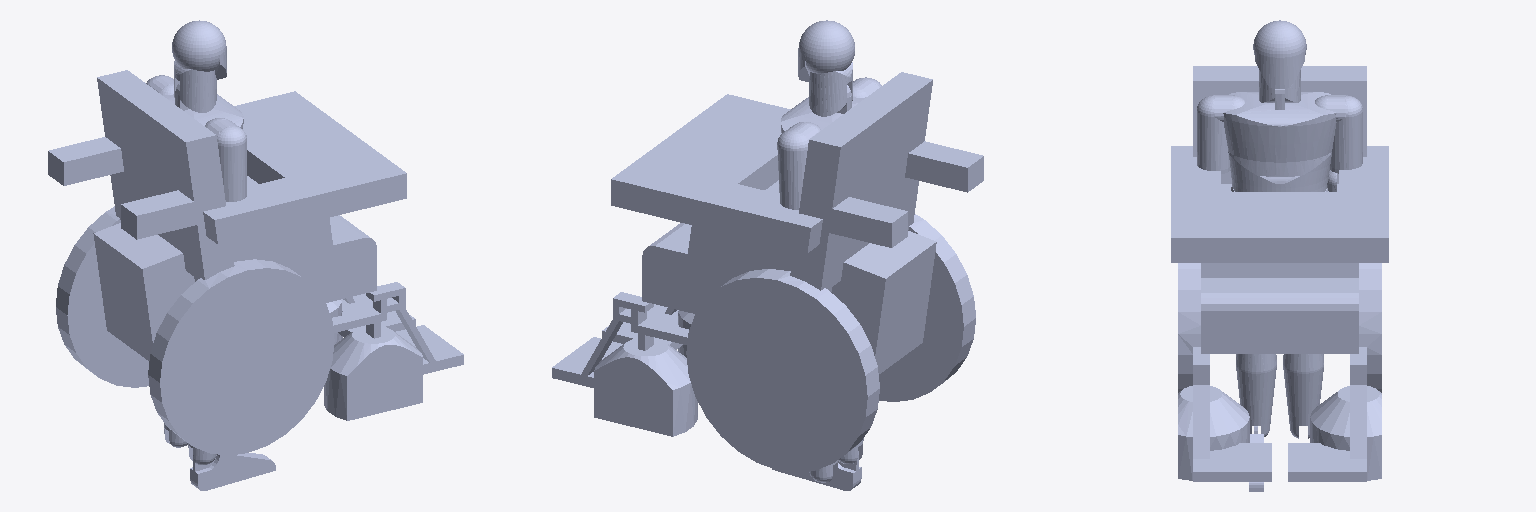
URDF robot description (wheelchair_simulation_expanded):
<?xml version="1.0"?>
<robot
  name="wheelchair_simulation_expanded">
  <link
    name="wheelchair/base_link">
    <inertial>
      <origin
        xyz="0.53211 -9.4007E-05 0.52163"
        rpy="0 0 0" />
      <mass
        value="272.65" />
      <inertia
        ixx="34.793"
        ixy="-0.011261"
        ixz="-5.7617"
        iyy="44.037"
        iyz="-0.013729"
        izz="36.587" />
    </inertial>
    <visual>
      <origin
        xyz="0 0 0"
        rpy="0 0 0" />
      <geometry>
        <mesh
          filename="package://hrl_base_selection/urdf/wheelchair_simulation/meshes/expanded/base_link.STL" />
      </geometry>
      <material
        name="">
        <color
          rgba="0.79216 0.81961 0.93333 1" />
      </material>
    </visual>
    <collision>
      <origin
        xyz="0 0 0"
        rpy="0 0 0" />
      <geometry>
        <mesh
          filename="package://hrl_base_selection/urdf/wheelchair_simulation/meshes/expanded/base_link.STL" />
      </geometry>
    </collision>
  </link>
  <joint
   name="wheelchair/body_x_move_joint"
    type="prismatic">
    <origin
      xyz="0.332 0 1.25"
      rpy="0 0 0" />
    <parent
      link="wheelchair/base_link" />
    <child
      link="wheelchair/body_x_move_link" />
    <axis
      xyz="1 0 0" />
    <limit
      lower="-1"
      upper="1"
      effort="0"
      velocity="0" />
  </joint>
  <link
    name="wheelchair/body_x_move_link">
  </link>
  <joint
   name="wheelchair/body_y_move_joint"
    type="prismatic">
    <origin
      xyz="0.0 0.0 0.0"
      rpy="0 0 0" />
    <parent
      link="wheelchair/body_x_move_link" />
    <child
      link="wheelchair/body_y_move_link" />
    <axis
      xyz="0 1 0" />
    <limit
      lower="-1"
      upper="1"
      effort="0"
      velocity="0" />
  </joint>
  <link
    name="wheelchair/body_y_move_link">
  </link>
  <joint
   name="wheelchair/body_theta_move_joint"
    type="revolute">
    <origin
      xyz="0.0 0.0 0.0"
      rpy="0 0 0" />
    <parent
      link="wheelchair/body_y_move_link" />
    <child
      link="wheelchair/body_theta_move_link" />
    <axis
      xyz="0 0 1" />
    <limit
      lower="-3"
      upper="3"
      effort="0"
      velocity="0" />
  </joint>
  <link
    name="wheelchair/body_theta_move_link">
  </link>
  <joint
    name="wheelchair/origin_to_neck_base_joint"
    type="fixed">
    <origin
      xyz="0.0 0.0 0.0"
      rpy="1.570795 1.570795 0" />
    <parent
      link="wheelchair/body_theta_move_link" />
    <child
      link="wheelchair/neck_base_link" />
  </joint>
  <link
    name="wheelchair/neck_base_link">
  </link>
  <link
    name="wheelchair/neck_twist_link">
  </link>
  <joint
    name="wheelchair/neck_twist_joint"
    type="revolute">
    <origin
      xyz="0.0 0.0 0"
      rpy="0. 0. 0." />
    <parent
      link="wheelchair/neck_base_link" />
    <child
      link="wheelchair/neck_twist_link" />
    <axis
      xyz="1 0 0" />
    <limit
      lower="-2"
      upper="2"
      effort="0"
      velocity="0" />
  </joint>
  <link
    name="wheelchair/neck_tilt_link">
  </link>
  <joint
    name="wheelchair/neck_tilt_joint"
    type="revolute">
    <origin
      xyz="0.0 0.0 0"
      rpy="0. 0. 0." />
    <parent
      link="wheelchair/neck_twist_link" />
    <child
      link="wheelchair/neck_tilt_link" />
    <axis
      xyz="0 0 -1" />
    <limit
      lower="-2"
      upper="2"
      effort="0"
      velocity="0" />
  </joint>
  <link
    name="wheelchair/neck_link">
    <visual>
      <origin
        xyz="0 0 0"
        rpy="0 0 0" />
      <geometry>
        <mesh
          filename="package://hrl_base_selection/urdf/wheelchair_simulation/meshes/neck_link.STL" scale="1.0 1.3 1.3"/>
      </geometry>
      <material
        name="">
        <color
          rgba="0.792156862745098 0.819607843137255 0.933333333333333 1" />
      </material>
    </visual>
    <collision>
      <origin
        xyz="0 0 0"
        rpy="0 0 0" />
      <geometry>
        <mesh
          filename="package://hrl_base_selection/urdf/wheelchair_simulation/meshes/neck_link.STL" scale="1.0 1.3 1.3"/>
      </geometry>
    </collision>
  </link>
  <joint
    name="wheelchair/neck_to_neck_top_joint"
    type="fixed">
    <origin
      xyz="-0.07239 0 0"
      rpy="0 0 0" />
    <parent
      link="wheelchair/neck_tilt_link" />
    <child
      link="wheelchair/neck_link" />
  </joint>
  <link
    name="wheelchair/neck_top_rotated_link">
  </link>
  <joint
    name="wheelchair/neck_rotation_fixed_joint"
    type="fixed">
    <origin
      xyz="0 0 0"
      rpy="-1.570796 0 1.570796" />
    <parent
      link="wheelchair/neck_link" />
    <child
      link="wheelchair/neck_top_rotated_link" />
    <axis
      xyz="0 0 1" />
    <limit
      lower="-2"
      upper="2"
      effort="0"
      velocity="0" />
  </joint>
  <link
    name="wheelchair/head_roty_link">
  </link>
  <joint
    name="wheelchair/neck_head_roty_joint"
    type="revolute">
    <origin
      xyz="0.0154 0 0.07779"
      rpy="0 0 0" />
    <parent
      link="wheelchair/neck_top_rotated_link" />
    <child
      link="wheelchair/head_roty_link" />
    <axis
      xyz="0 1 0" />
    <limit
      lower="-2"
      upper="2"
      effort="0"
      velocity="0" />
  </joint>
  <link
    name="wheelchair/head_rotz_link">
  </link>
  <joint
    name="wheelchair/neck_head_rotz_joint"
    type="revolute">
    <origin
      xyz="0 0 0"
      rpy="0 0 0" />
    <parent
      link="wheelchair/head_roty_link" />
    <child
      link="wheelchair/head_rotz_link" />
    <axis
      xyz="0 0 1" />
    <limit
      lower="-2"
      upper="2"
      effort="0"
      velocity="0" />
  </joint>
  <link
    name="wheelchair/head_link">
    <visual>
      <origin
        xyz="0 0 0"
        rpy="0 0 0" />
      <geometry>
        <mesh
          filename="package://hrl_base_selection/urdf/wheelchair_simulation/meshes/head_link.STL" scale="1. 1. 1."/>
      </geometry>
      <material
        name="">
        <color
          rgba="0.792156862745098 0.819607843137255 0.933333333333333 1" />
      </material>
    </visual>
    <collision>
      <origin
        xyz="0 0 0"
        rpy="0 0 0" />
      <geometry>
        <mesh
          filename="package://hrl_base_selection/urdf/wheelchair_simulation/meshes/head_link.STL" scale="1. 1. 1."/>
      </geometry>
    </collision>
  </link>
  <joint
    name="wheelchair/neck_head_rotx_joint"
    type="revolute">
    <origin
      xyz="0 0 0"
      rpy="0 0 0" />
    <parent
      link="wheelchair/head_rotz_link" />
    <child
      link="wheelchair/head_link" />
    <axis
      xyz="1 0 0" />
    <limit
      lower="-2"
      upper="2"
      effort="0"
      velocity="0" />
  </joint>
  <link
    name="wheelchair/upper_body_link">
    <visual>
      <origin
        xyz="0 0 0"
        rpy="0 0 0" />
      <geometry>
        <mesh
          filename="package://hrl_base_selection/urdf/wheelchair_simulation/meshes/upper_body_link.STL" scale="1.0 1.3 1.3"/>
      </geometry>
      <material
        name="">
        <color
          rgba="0.792156862745098 0.819607843137255 0.933333333333333 1" />
      </material>
    </visual>
    <collision>
      <origin
        xyz="0 0 0"
        rpy="0 0 0" />
      <geometry>
        <mesh
          filename="package://hrl_base_selection/urdf/wheelchair_simulation/meshes/upper_body_link.STL" scale="1.0 1.3 1.3"/>
      </geometry>
    </collision>
  </link>
  <joint
    name="wheelchair/neck_body_joint"
    type="revolute">
    <origin
      xyz="0.00 0 0"
      rpy="0 0 0" />
    <parent
      link="wheelchair/neck_base_link" />
    <child
      link="wheelchair/upper_body_link" />
    <axis
      xyz="0 0 -1" />
    <limit
      lower="-2"
      upper="2"
      effort="0"
      velocity="0" />
  </joint>
  <link
    name="wheelchair/mid_body_link">
    <visual>
      <origin
        xyz="0 0 0"
        rpy="0 0 0" />
      <geometry>
        <mesh
          filename="package://hrl_base_selection/urdf/wheelchair_simulation/meshes/mid_body_link.STL" scale="1.0 1.3 1.3"/>
      </geometry>
      <material
        name="">
        <color
          rgba="0.792156862745098 0.819607843137255 0.933333333333333 1" />
      </material>
    </visual>
    <collision>
      <origin
        xyz="0 0 0"
        rpy="0 0 0" />
      <geometry>
        <mesh
          filename="package://hrl_base_selection/urdf/wheelchair_simulation/meshes/mid_body_link.STL" scale="1.0 1.3 1.3"/>
      </geometry>
    </collision>
  </link>
  <joint
    name="wheelchair/upper_mid_body_joint"
    type="revolute">
    <origin
      xyz="0.35052 0 0"
      rpy="0 0 0" />
    <parent
      link="wheelchair/upper_body_link" />
    <child
      link="wheelchair/mid_body_link" />
    <axis
      xyz="0 0 1" />
    <limit
      lower="-2"
      upper="2"
      effort="0"
      velocity="0" />
  </joint>
  <link
    name="wheelchair/lower_body_link">
    <visual>
      <origin
        xyz="0 0 0"
        rpy="0 0 0" />
      <geometry>
        <mesh
          filename="package://hrl_base_selection/urdf/wheelchair_simulation/meshes/lower_body_link.STL" scale="1.0 1.3 1.3"/>
      </geometry>
      <material
        name="">
        <color
          rgba="0.792156862745098 0.819607843137255 0.933333333333333 1" />
      </material>
    </visual>
    <collision>
      <origin
        xyz="0 0 0"
        rpy="0 0 0" />
      <geometry>
        <mesh
          filename="package://hrl_base_selection/urdf/wheelchair_simulation/meshes/lower_body_link.STL" scale="1.0 1.3 1.3"/>
      </geometry>
    </collision>
  </link>
  <joint
    name="wheelchair/mid_lower_body_joint"
    type="revolute">
    <origin
      xyz="0.15113 0 0"
      rpy="0 0 0" />
    <parent
      link="wheelchair/mid_body_link" />
    <child
      link="wheelchair/lower_body_link" />
    <axis
      xyz="0 0 1" />
    <limit
      lower="-2"
      upper="2"
      effort="0"
      velocity="0" />
  </joint>
  <link
    name="wheelchair/quad_left_link">
    <visual>
      <origin
        xyz="0 0 0"
        rpy="0 0 0" />
      <geometry>
        <mesh
          filename="package://hrl_base_selection/urdf/wheelchair_simulation/meshes/quad_left_link.STL" scale="1.0 1.3 1.3"/>
      </geometry>
      <material
        name="">
        <color
          rgba="0.792156862745098 0.819607843137255 0.933333333333333 1" />
      </material>
    </visual>
    <collision>
      <origin
        xyz="0 0 0"
        rpy="0 0 0" />
      <geometry>
        <mesh
          filename="package://hrl_base_selection/urdf/wheelchair_simulation/meshes/quad_left_link.STL" scale="1.0 1.3 1.3"/>
      </geometry>
    </collision>
  </link>
  <joint
    name="wheelchair/body_quad_left_joint"
    type="revolute">
    <origin
      xyz="0.05207 0 -0.08636"
      rpy="0 0 -.25" />
    <parent
      link="wheelchair/lower_body_link" />
    <child
      link="wheelchair/quad_left_link" />
    <axis
      xyz="0 0 1" />
    <limit
      lower="-3."
      upper="3."
      effort="0"
      velocity="0" />
  </joint>
  <link
    name="wheelchair/calf_left_link">
    <visual>
      <origin
        xyz="0 0 0"
        rpy="0 0 0" />
      <geometry>
        <mesh
          filename="package://hrl_base_selection/urdf/wheelchair_simulation/meshes/calf_left_link.STL" scale="1.0 1.3 1.3"/>
      </geometry>
      <material
        name="">
        <color
          rgba="0.792156862745098 0.819607843137255 0.933333333333333 1" />
      </material>
    </visual>
    <collision>
      <origin
        xyz="0 0 0"
        rpy="0 0 0" />
      <geometry>
        <mesh
          filename="package://hrl_base_selection/urdf/wheelchair_simulation/meshes/calf_left_link.STL" scale="1.0 1.3 1.3"/>
      </geometry>
    </collision>
  </link>
  <joint
    name="wheelchair/quad_calf_left_joint"
    type="revolute">
    <origin
      xyz="0.41218 0.11044 0"
      rpy="3.14159 0 3.43" />
    <parent
      link="wheelchair/quad_left_link" />
    <child
      link="wheelchair/calf_left_link" />
    <axis
      xyz="0 0 1" />
    <limit
      lower="-3."
      upper="3."
      effort="0"
      velocity="0" />
  </joint>
  <link
    name="wheelchair/foot_left_link">
    <visual>
      <origin
        xyz="0 0 0"
        rpy="0 0 0" />
      <geometry>
        <mesh
          filename="package://hrl_base_selection/urdf/wheelchair_simulation/meshes/foot_left_link.STL" scale="1.5 1.2 1.5"/>
      </geometry>
      <material
        name="">
        <color
          rgba="0.792156862745098 0.819607843137255 0.933333333333333 1" />
      </material>
    </visual>
    <collision>
      <origin
        xyz="0 0 0"
        rpy="0 0 0" />
      <geometry>
        <mesh
          filename="package://hrl_base_selection/urdf/wheelchair_simulation/meshes/foot_left_link.STL" scale="1.5 1.2 1.5"/>
      </geometry>
    </collision>
  </link>
  <joint
    name="wheelchair/calf_foot_left_joint"
    type="revolute">
    <origin
      xyz="-0.41279 -0.03188 0"
      rpy="0 0 0.09" />
    <parent
      link="wheelchair/calf_left_link" />
    <child
      link="wheelchair/foot_left_link" />
    <axis
      xyz="0 0 1" />
    <limit
      lower="-3."
      upper="3."
      effort="0"
      velocity="0" />
  </joint>
  <link
    name="wheelchair/quad_right_link">
    <visual>
      <origin
        xyz="0 0 0"
        rpy="0 0 0" />
      <geometry>
        <mesh
          filename="package://hrl_base_selection/urdf/wheelchair_simulation/meshes/quad_right_link.STL" scale="1.0 1.3 1.3"/>
      </geometry>
      <material
        name="">
        <color
          rgba="0.792156862745098 0.819607843137255 0.933333333333333 1" />
      </material>
    </visual>
    <collision>
      <origin
        xyz="0 0 0"
        rpy="0 0 0" />
      <geometry>
        <mesh
          filename="package://hrl_base_selection/urdf/wheelchair_simulation/meshes/quad_right_link.STL" scale="1.0 1.3 1.3"/>
      </geometry>
    </collision>
  </link>
  <joint
    name="wheelchair/body_quad_right_joint"
    type="revolute">
    <origin
      xyz="0.05207 0 0.08636"
      rpy="0 0 -.25" />
    <parent
      link="wheelchair/lower_body_link" />
    <child
      link="wheelchair/quad_right_link" />
    <axis
      xyz="0 0 1" />
    <limit
      lower="-3"
      upper="3"
      effort="0"
      velocity="0" />
  </joint>
  <link
    name="wheelchair/calf_right_link">
    <visual>
      <origin
        xyz="0 0 0"
        rpy="0 0 0" />
      <geometry>
        <mesh
          filename="package://hrl_base_selection/urdf/wheelchair_simulation/meshes/calf_right_link.STL" scale="1.0 1.3 1.3"/>
      </geometry>
      <material
        name="">
        <color
          rgba="0.792156862745098 0.819607843137255 0.933333333333333 1" />
      </material>
    </visual>
    <collision>
      <origin
        xyz="0 0 0"
        rpy="0 0 0" />
      <geometry>
        <mesh
          filename="package://hrl_base_selection/urdf/wheelchair_simulation/meshes/calf_right_link.STL" scale="1.0 1.3 1.3"/>
      </geometry>
    </collision>
  </link>
  <joint
    name="wheelchair/quad_calf_right_joint"
    type="revolute">
    <origin
      xyz="0.41218 0.11044 0"
      rpy="3.14159 0 3.43" />
    <parent
      link="wheelchair/quad_right_link" />
    <child
      link="wheelchair/calf_right_link" />
    <axis
      xyz="0 0 1" />
    <limit
      lower="-3"
      upper="3"
      effort="0"
      velocity="0" />
  </joint>
  <link
    name="wheelchair/foot_right_link">
    <visual>
      <origin
        xyz="0 0 0"
        rpy="0 0 0" />
      <geometry>
        <mesh
          filename="package://hrl_base_selection/urdf/wheelchair_simulation/meshes/foot_right_link.STL" scale="1.5 1.2 1.5"/>
      </geometry>
      <material
        name="">
        <color
          rgba="0.792156862745098 0.819607843137255 0.933333333333333 1" />
      </material>
    </visual>
    <collision>
      <origin
        xyz="0 0 0"
        rpy="0 0 0" />
      <geometry>
        <mesh
          filename="package://hrl_base_selection/urdf/wheelchair_simulation/meshes/foot_right_link.STL" scale="1.5 1.2 1.5"/>
      </geometry>
    </collision>
  </link>
  <joint
    name="wheelchair/calf_foot_right_joint"
    type="revolute">
    <origin
      xyz="-0.41279 -0.03188 0"
      rpy="0 0 0.09" />
    <parent
      link="wheelchair/calf_right_link" />
    <child
      link="wheelchair/foot_right_link" />
    <axis
      xyz="0 0 1" />
    <limit
      lower="-3"
      upper="3"
      effort="0"
      velocity="0" />
  </joint>
  <link
    name="wheelchair/arm_left_link">
    <visual>
      <origin
        xyz="0 0 0"
        rpy="0 0 0" />
      <geometry>
        <mesh
          filename="package://hrl_base_selection/urdf/wheelchair_simulation/meshes/arm_left_link.STL" scale="1.0 1.3 1.3"/>
      </geometry>
      <material
        name="">
        <color
          rgba="0.792156862745098 0.819607843137255 0.933333333333333 1" />
      </material>
    </visual>
    <collision>
      <origin
        xyz="0 0 0"
        rpy="0 0 0" />
      <geometry>
        <mesh
          filename="package://hrl_base_selection/urdf/wheelchair_simulation/meshes/arm_left_link.STL" scale="1.0 1.3 1.3"/>
      </geometry>
    </collision>
  </link>
  <joint
    name="wheelchair/body_arm_left_joint"
    type="revolute">
    <origin
      xyz="0.09652 0 -0.17526"
      rpy="0 0 0" />
    <parent
      link="wheelchair/upper_body_link" />
    <child
      link="wheelchair/arm_left_link" />
    <axis
      xyz="0 0 1" />
    <limit
      lower="-3"
      upper="3"
      effort="0"
      velocity="0" />
  </joint>
  <link
    name="wheelchair/forearm_left_link">
    <visual>
      <origin
        xyz="0 0 0"
        rpy="0 0 0" />
      <geometry>
        <mesh
          filename="package://hrl_base_selection/urdf/wheelchair_simulation/meshes/forearm_left_link.STL" scale="1.0 1.3 1.3"/>
      </geometry>
      <material
        name="">
        <color
          rgba="0.792156862745098 0.819607843137255 0.933333333333333 1" />
      </material>
    </visual>
    <collision>
      <origin
        xyz="0 0 0"
        rpy="0 0 0" />
      <geometry>
        <mesh
          filename="package://hrl_base_selection/urdf/wheelchair_simulation/meshes/forearm_left_link.STL" scale="1.0 1.3 1.3"/>
      </geometry>
    </collision>
  </link>
  <joint
    name="wheelchair/arm_forearm_left_joint"
    type="revolute">
    <origin
      xyz="0.28174 -0.0106 -0.04953"
      rpy="0 0 0" />
    <parent
      link="wheelchair/arm_left_link" />
    <child
      link="wheelchair/forearm_left_link" />
    <axis
      xyz="0 0 1" />
    <limit
      lower="-3"
      upper="3"
      effort="0"
      velocity="0" />
  </joint>
  <link
    name="wheelchair/hand_left_link">
    <visual>
      <origin
        xyz="0 0 0"
        rpy="0 0 0" />
      <geometry>
        <mesh
          filename="package://hrl_base_selection/urdf/wheelchair_simulation/meshes/hand_left_link.STL" scale="1.0 1.3 1.3"/>
      </geometry>
      <material
        name="">
        <color
          rgba="0.792156862745098 0.819607843137255 0.933333333333333 1" />
      </material>
    </visual>
    <collision>
      <origin
        xyz="0 0 0"
        rpy="0 0 0" />
      <geometry>
        <mesh
          filename="package://hrl_base_selection/urdf/wheelchair_simulation/meshes/hand_left_link.STL" scale="1.0 1.3 1.3"/>
      </geometry>
    </collision>
  </link>
  <joint
    name="wheelchair/forearm_hand_left_joint"
    type="revolute">
    <origin
      xyz="0.25146 0 0"
      rpy="0 0 0" />
    <parent
      link="wheelchair/forearm_left_link" />
    <child
      link="wheelchair/hand_left_link" />
    <axis
      xyz="0 0 1" />
    <limit
      lower="-3"
      upper="3"
      effort="0"
      velocity="0" />
  </joint>
  <link
    name="wheelchair/arm_right_link">
    <visual>
      <origin
        xyz="0 0 0"
        rpy="0 0 0" />
      <geometry>
        <mesh
          filename="package://hrl_base_selection/urdf/wheelchair_simulation/meshes/arm_right_link.STL" scale="1.0 1.3 1.3"/>
      </geometry>
      <material
        name="">
        <color
          rgba="0.792156862745098 0.819607843137255 0.933333333333333 1" />
      </material>
    </visual>
    <collision>
      <origin
        xyz="0 0 0"
        rpy="0 0 0" />
      <geometry>
        <mesh
          filename="package://hrl_base_selection/urdf/wheelchair_simulation/meshes/arm_right_link.STL" scale="1.0 1.3 1.3"/>
      </geometry>
    </collision>
  </link>
  <joint
    name="wheelchair/body_arm_right_joint"
    type="revolute">
    <origin
      xyz="0.09652 0 0.17526"
      rpy="0 0 0" />
    <parent
      link="wheelchair/upper_body_link" />
    <child
      link="wheelchair/arm_right_link" />
    <axis
      xyz="0 0 1" />
    <limit
      lower="-3"
      upper="3"
      effort="0"
      velocity="0" />
  </joint>
  <link
    name="wheelchair/forearm_right_link">
    <visual>
      <origin
        xyz="0 0 0"
        rpy="0 0 0" />
      <geometry>
        <mesh
          filename="package://hrl_base_selection/urdf/wheelchair_simulation/meshes/forearm_right_link.STL" scale="1.0 1.3 1.3"/>
      </geometry>
      <material
        name="">
        <color
          rgba="0.792156862745098 0.819607843137255 0.933333333333333 1" />
      </material>
    </visual>
    <collision>
      <origin
        xyz="0 0 0"
        rpy="0 0 0" />
      <geometry>
        <mesh
          filename="package://hrl_base_selection/urdf/wheelchair_simulation/meshes/forearm_right_link.STL" scale="1.0 1.3 1.3"/>
      </geometry>
    </collision>
  </link>
  <joint
    name="wheelchair/arm_forearm_right_joint"
    type="revolute">
    <origin
      xyz="0.28194 0 0.04953"
      rpy="0 0 0" />
    <parent
      link="wheelchair/arm_right_link" />
    <child
      link="wheelchair/forearm_right_link" />
    <axis
      xyz="0 0 1" />
    <limit
      lower="-3"
      upper="3"
      effort="0"
      velocity="0" />
  </joint>
  <link
    name="wheelchair/hand_right_link">
    <visual>
      <origin
        xyz="0 0 0"
        rpy="0 0 0" />
      <geometry>
        <mesh
          filename="package://hrl_base_selection/urdf/wheelchair_simulation/meshes/hand_right_link.STL" scale="1.0 1.3 1.3"/>
      </geometry>
      <material
        name="">
        <color
          rgba="0.792156862745098 0.819607843137255 0.933333333333333 1" />
      </material>
    </visual>
    <collision>
      <origin
        xyz="0 0 0"
        rpy="0 0 0" />
      <geometry>
        <mesh
          filename="package://hrl_base_selection/urdf/wheelchair_simulation/meshes/hand_right_link.STL" scale="1.0 1.3 1.3"/>
      </geometry>
    </collision>
  </link>
  <joint
    name="wheelchair/forearm_hand_right_joint"
    type="revolute">
    <origin
      xyz="0.25146 0 0"
      rpy="0 0 0" />
    <parent
      link="wheelchair/forearm_right_link" />
    <child
      link="wheelchair/hand_right_link" />
    <axis
      xyz="0 0 1" />
    <limit
      lower="-3"
      upper="3"
      effort="0"
      velocity="0" />
  </joint>
</robot>

--- Facts derived from the render (not from the file) ---
Views: 3 orthographic renders of the robot side by side, from view 1: azimuth 30°, elevation 25°; view 2: azimuth 150°, elevation 25°; view 3: azimuth 270°, elevation 25°.
Model wheelchair_simulation_expanded with 27 links and 26 joints (21 revolute, 2 prismatic, 3 fixed), rooted at wheelchair/base_link, posed all joints at 0.
Links seen in each view (by area): view 1: wheelchair/base_link, wheelchair/head_link, wheelchair/arm_right_link, wheelchair/foot_right_link, wheelchair/neck_link, wheelchair/upper_body_link; view 2: wheelchair/base_link, wheelchair/head_link, wheelchair/arm_left_link, wheelchair/neck_link, wheelchair/upper_body_link, wheelchair/foot_right_link; view 3: wheelchair/base_link, wheelchair/upper_body_link, wheelchair/head_link, wheelchair/calf_left_link, wheelchair/calf_right_link, wheelchair/arm_right_link, wheelchair/arm_left_link, wheelchair/mid_body_link, wheelchair/neck_link.
Boxes of the visible links, x1,y1,x2,y2 form: wheelchair/base_link: [48, 70, 463, 455]; wheelchair/head_link: [172, 20, 226, 79]; wheelchair/arm_right_link: [205, 118, 246, 201]; wheelchair/foot_right_link: [190, 453, 275, 490]; wheelchair/neck_link: [174, 61, 216, 112]; wheelchair/upper_body_link: [161, 82, 243, 128]; wheelchair/base_link: [552, 72, 983, 472]; wheelchair/head_link: [798, 20, 854, 81]; wheelchair/arm_left_link: [777, 122, 820, 209]; wheelchair/neck_link: [809, 62, 852, 116]; wheelchair/upper_body_link: [781, 85, 865, 132]; wheelchair/foot_right_link: [772, 451, 861, 490]; wheelchair/base_link: [1171, 66, 1388, 481]; wheelchair/upper_body_link: [1223, 89, 1336, 176]; wheelchair/head_link: [1253, 20, 1306, 88]; wheelchair/calf_left_link: [1283, 354, 1323, 438]; wheelchair/calf_right_link: [1236, 354, 1276, 436]; wheelchair/arm_right_link: [1197, 95, 1244, 173]; wheelchair/arm_left_link: [1315, 95, 1362, 173]; wheelchair/mid_body_link: [1229, 153, 1331, 191]; wheelchair/neck_link: [1259, 70, 1300, 102].
Size in the robot's own frame: 1.35 by 0.8 by 1.79 metres.
Meshes: 18 distinct files referenced, 16 mesh visuals loaded (16 binary STL); not drawn: 2 (reference not matched to a file when rendering).
